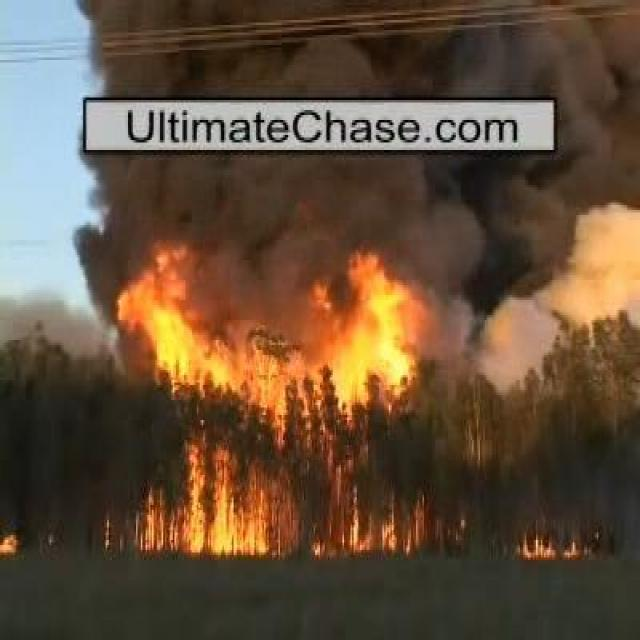fire: (190, 491, 267, 553)
smoke: (88, 5, 569, 96), (410, 160, 593, 350), (78, 154, 330, 266)
